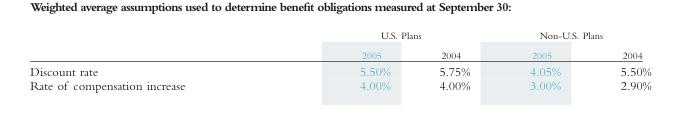table: (29, 29, 650, 91)
table column: (29, 29, 271, 91), (271, 29, 414, 91), (499, 29, 589, 91), (414, 29, 499, 91), (589, 29, 650, 91)
table column header: (29, 29, 650, 61)
table row: (29, 44, 650, 61), (29, 61, 650, 77), (29, 29, 650, 44), (29, 77, 650, 91)
table spanning cell: (271, 29, 499, 44), (499, 29, 650, 44)
